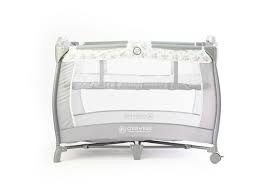crib: (51, 37, 222, 163)
